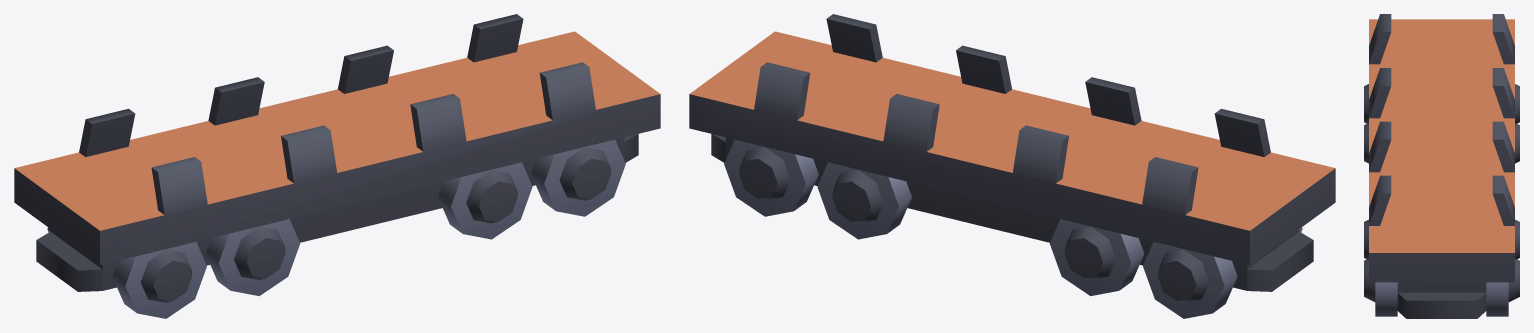
Rendered from train-wagon-flat.glb.
3 views of the same model, side by side, from view 1: azimuth 30°, elevation 25°; view 2: azimuth 150°, elevation 25°; view 3: azimuth 270°, elevation 25° (orthographic). The views are drawn at different scales.
Parts seen in each view (by area): view 1: train-wagon-flat; view 2: train-wagon-flat; view 3: train-wagon-flat.
Boxes of the visible parts, x1,y1,x2,y2 form: train-wagon-flat: (14,14,660,318); train-wagon-flat: (689,14,1335,318); train-wagon-flat: (1364,14,1519,318).
Size of the model in its own units: 0.6914 by 0.1721 by 0.1949.
Materials: 1 (1 with a texture image).
